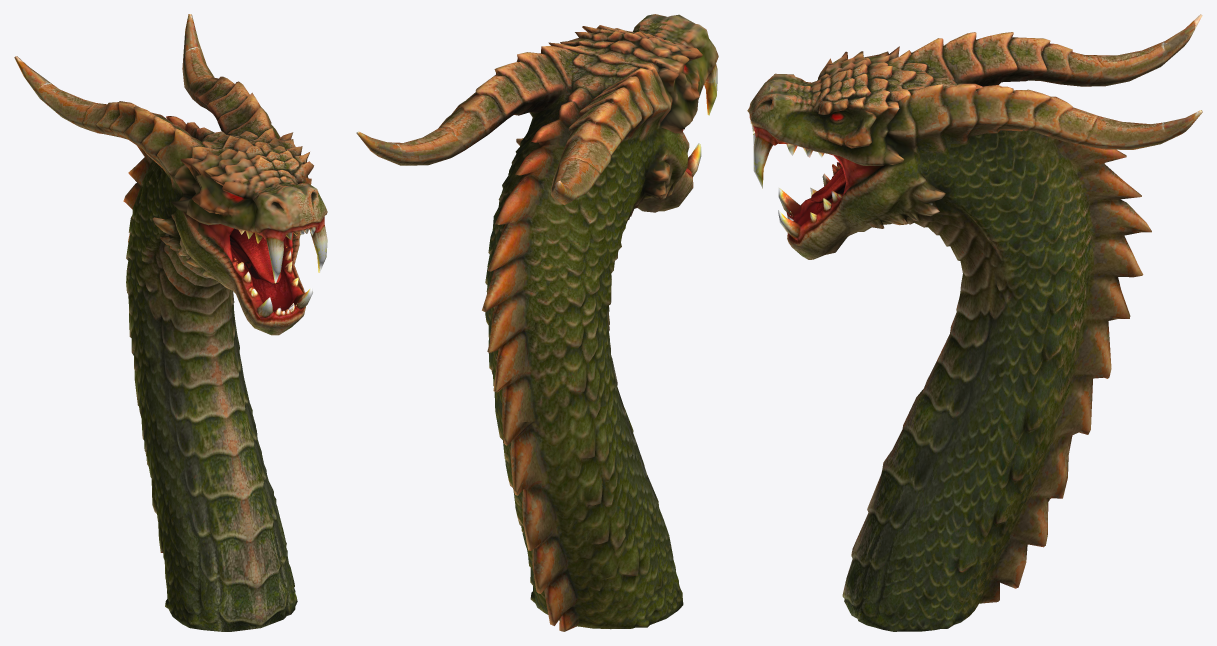
The model's file is HydraHead.glb.
3 views of the same model, side by side, from view 1: azimuth 30°, elevation 25°; view 2: azimuth 150°, elevation 25°; view 3: azimuth 270°, elevation 25° (orthographic). The views are drawn at different scales.
Visible parts, largest first — view 1: low; view 2: low; view 3: low.
Part boxes in pixels (x1=…): low: x1=14, y1=14, x2=327, y2=631; low: x1=356, y1=14, x2=718, y2=631; low: x1=747, y1=14, x2=1202, y2=631.
Bounding box in the file's own units: 0.9653 × 2.5 × 1.9.
1 material, 1 textured.
